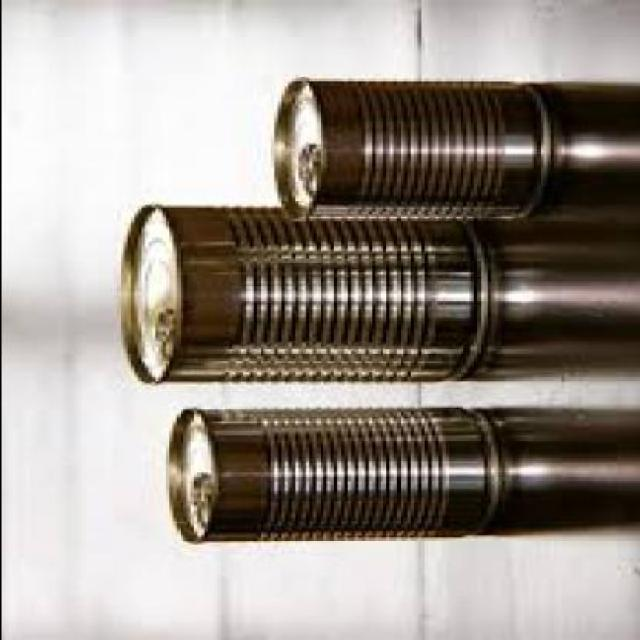METAL: (115, 205, 494, 384), (161, 405, 504, 543), (270, 77, 556, 221)
